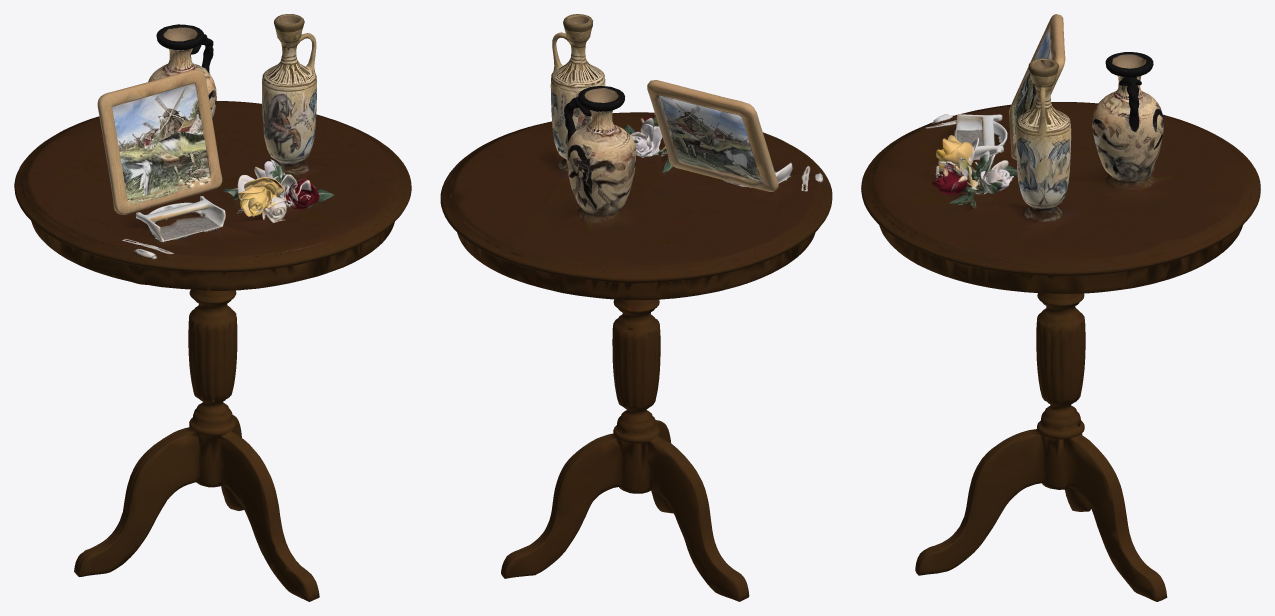
The model's file is sidetable.glb.
3 renders of one model, left to right at view 1: azimuth 30°, elevation 25°; view 2: azimuth 150°, elevation 25°; view 3: azimuth 270°, elevation 25°, orthographic.
Visible parts, largest first — view 1: Mesh_0; view 2: Mesh_0; view 3: Mesh_0.
Part boxes in pixels (left/top/right/bottom): Mesh_0: left=14, top=14, right=411, bottom=601; Mesh_0: left=440, top=14, right=832, bottom=601; Mesh_0: left=861, top=14, right=1260, bottom=601.
Bounding box in the file's own units: 1.3 × 1.9 × 1.3.
1 material, 1 textured.
